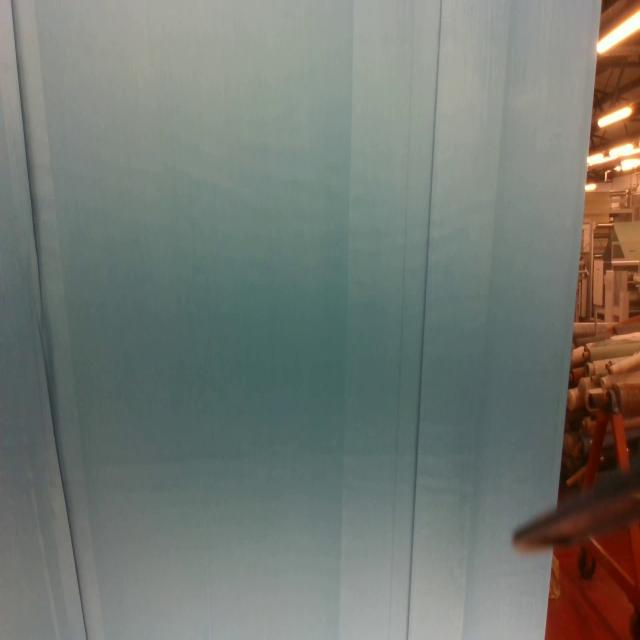crease: (8, 1, 88, 640), (386, 0, 443, 639)
